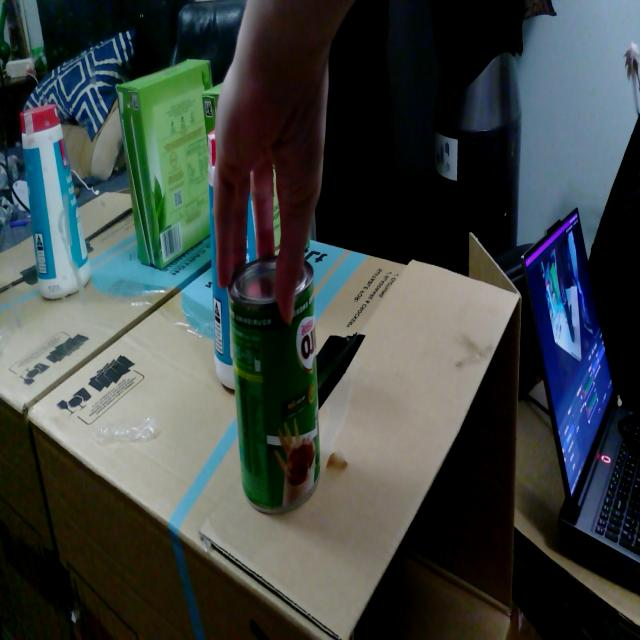nestle_milo_tin: (228, 257, 320, 513)
twinings_greentea_box: (202, 83, 223, 135), (274, 169, 281, 255), (306, 234, 309, 248)
woolworths_salt_bottle: (208, 130, 234, 390), (246, 193, 257, 263)
